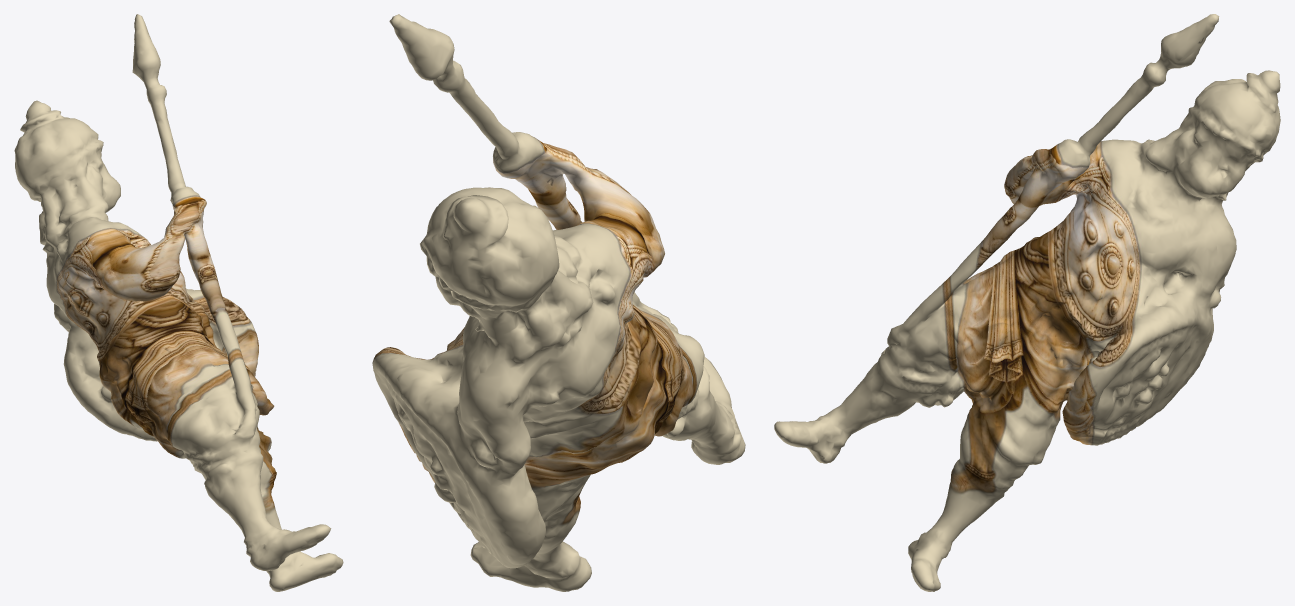
Rendered from padati.glb.
The picture shows the model from 3 angles, left to right: view 1: azimuth 30°, elevation 25°; view 2: azimuth 150°, elevation 25°; view 3: azimuth 270°, elevation 25°; orthographic projection. The views are drawn at different scales.
Visible parts, largest first — view 1: geometry_0; view 2: geometry_0; view 3: geometry_0.
Boxes of the visible parts, bbox=[...] form: geometry_0: bbox=[14, 14, 343, 591]; geometry_0: bbox=[372, 14, 745, 591]; geometry_0: bbox=[774, 14, 1280, 591].
Bounding box in the file's own units: 0.3954 × 0.9528 × 0.8003.
1 material, 1 textured.
